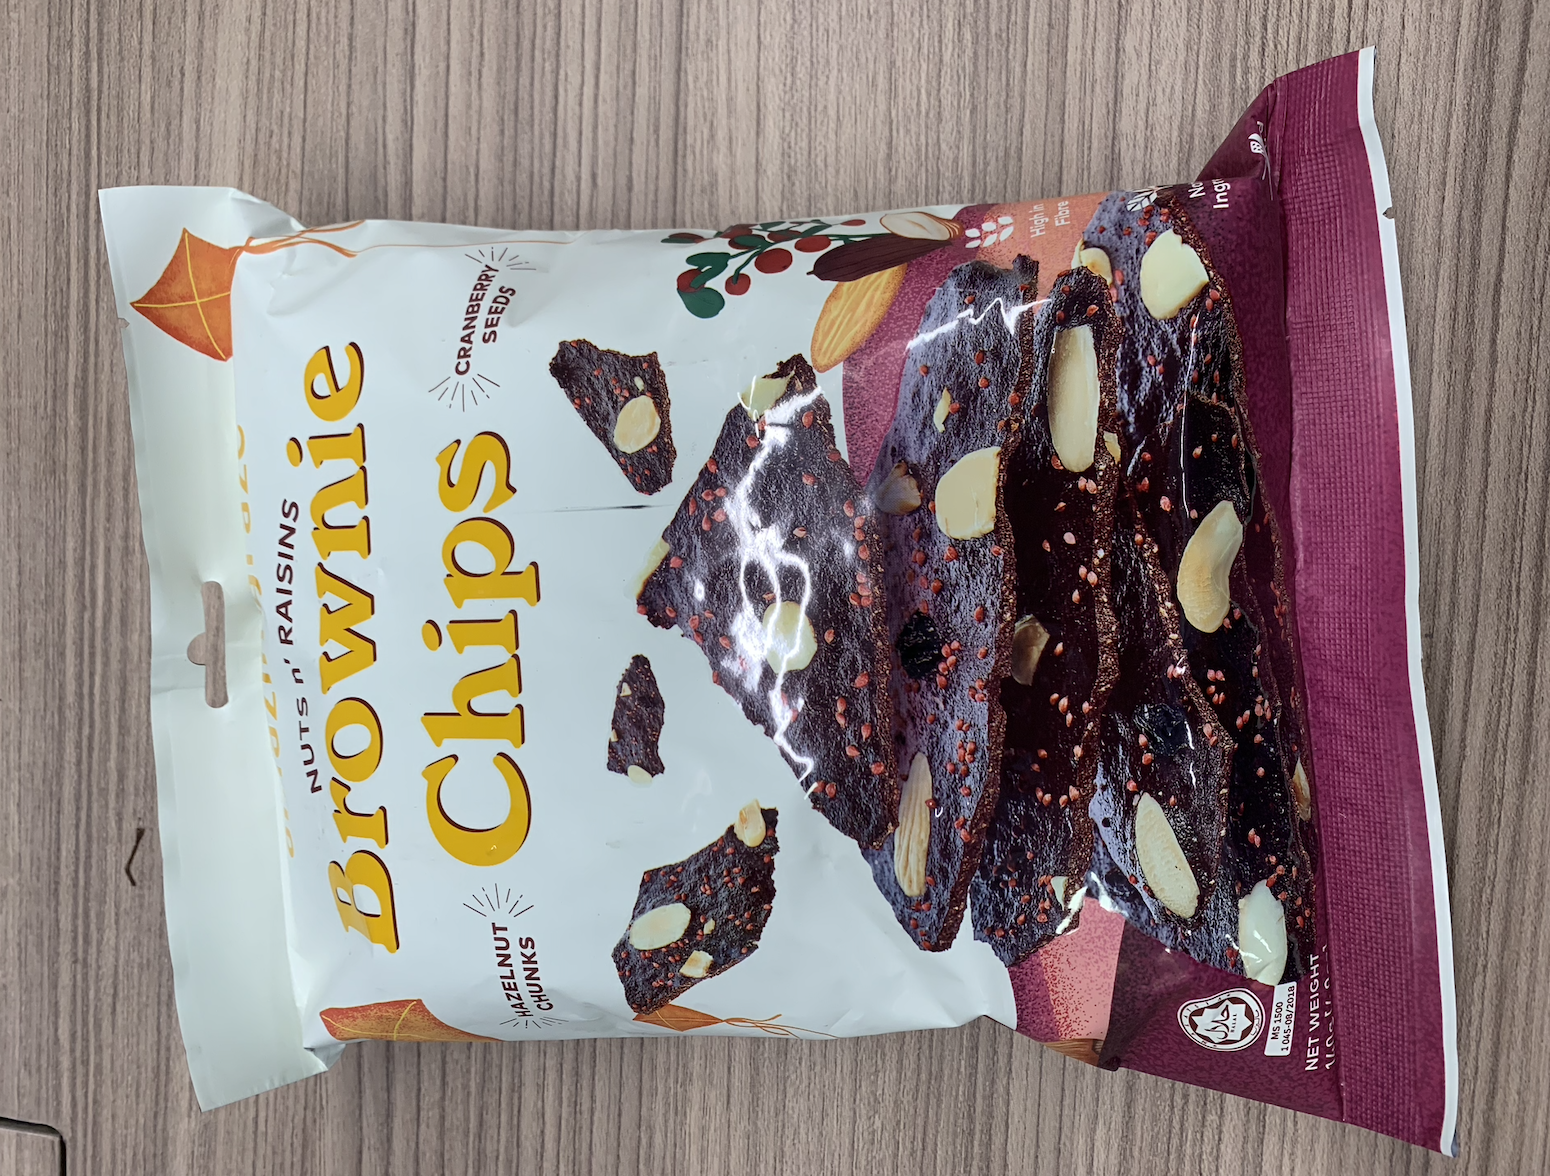crackers_150g: (190, 240, 1362, 1065)
